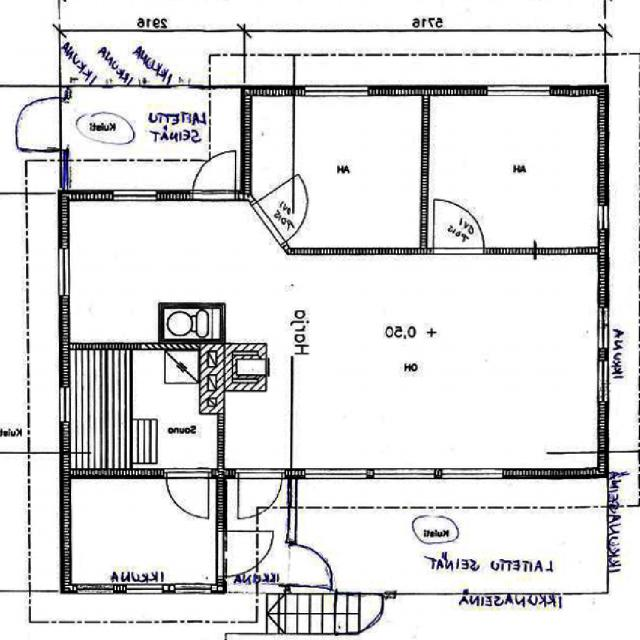door: (252, 174, 328, 244), (5, 98, 66, 149), (434, 200, 484, 254), (334, 584, 382, 640), (238, 468, 282, 520), (217, 531, 271, 573), (192, 149, 235, 200), (167, 469, 210, 520), (288, 543, 337, 581)
